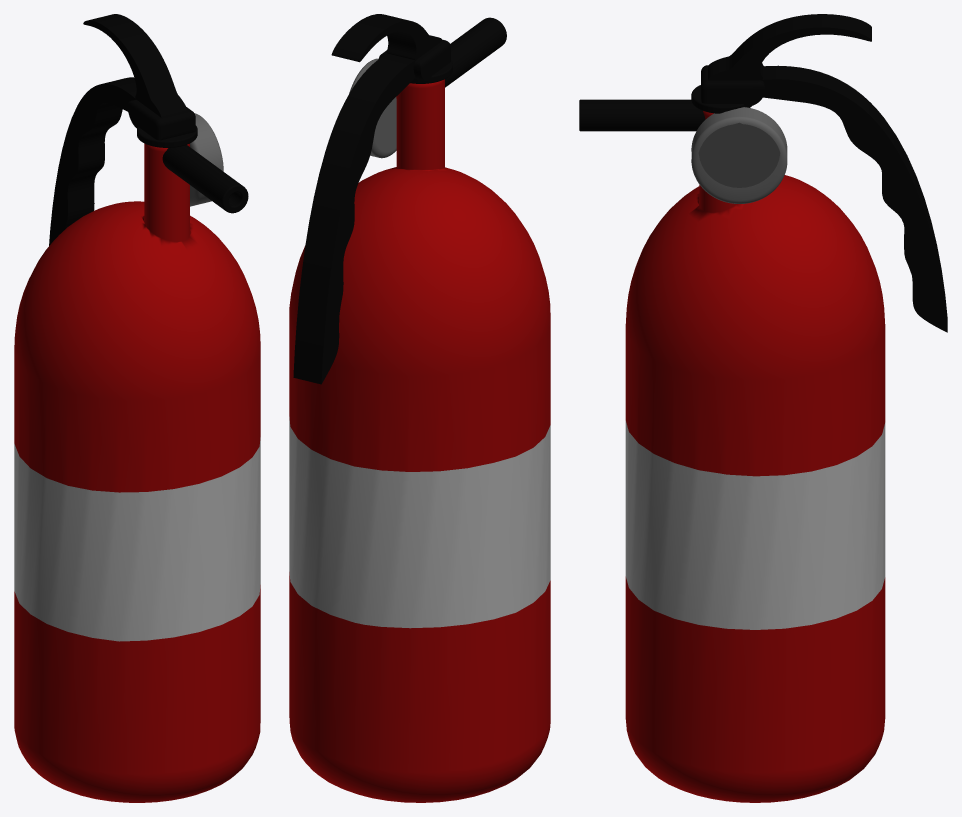
Rendered from Fire Extinguisher 3.fbx.
3 renders of one model, left to right at view 1: azimuth 30°, elevation 25°; view 2: azimuth 150°, elevation 25°; view 3: azimuth 270°, elevation 25°, orthographic. The views are drawn at different scales.
Parts seen in each view (by area): view 1: Body, Body10, Body11, Nozzle, Body8, Guage, Body7; view 2: Body, Body10, Body11, Nozzle, Guage, Body8; view 3: Body, Body10, Guage, Body11, Nozzle, Body8.
Boxes of the visible parts, box(x1,y1,x2,y2) form: Body: box(14, 143, 260, 802); Body10: box(49, 77, 136, 245); Body11: box(83, 14, 187, 117); Nozzle: box(162, 145, 248, 213); Body8: box(127, 99, 195, 140); Guage: box(190, 113, 223, 206); Body7: box(137, 125, 197, 147); Body: box(289, 79, 550, 802); Body10: box(293, 53, 415, 384); Body11: box(331, 14, 442, 62); Nozzle: box(445, 17, 506, 87); Guage: box(349, 58, 396, 158); Body8: box(379, 39, 450, 81); Body: box(625, 111, 885, 802); Body10: box(760, 65, 947, 332); Guage: box(691, 107, 787, 203); Body11: box(708, 14, 871, 80); Nozzle: box(579, 99, 705, 131); Body8: box(701, 65, 764, 106).
Bounding box in the file's own units: 8.1 × 25.76 × 11.5.
